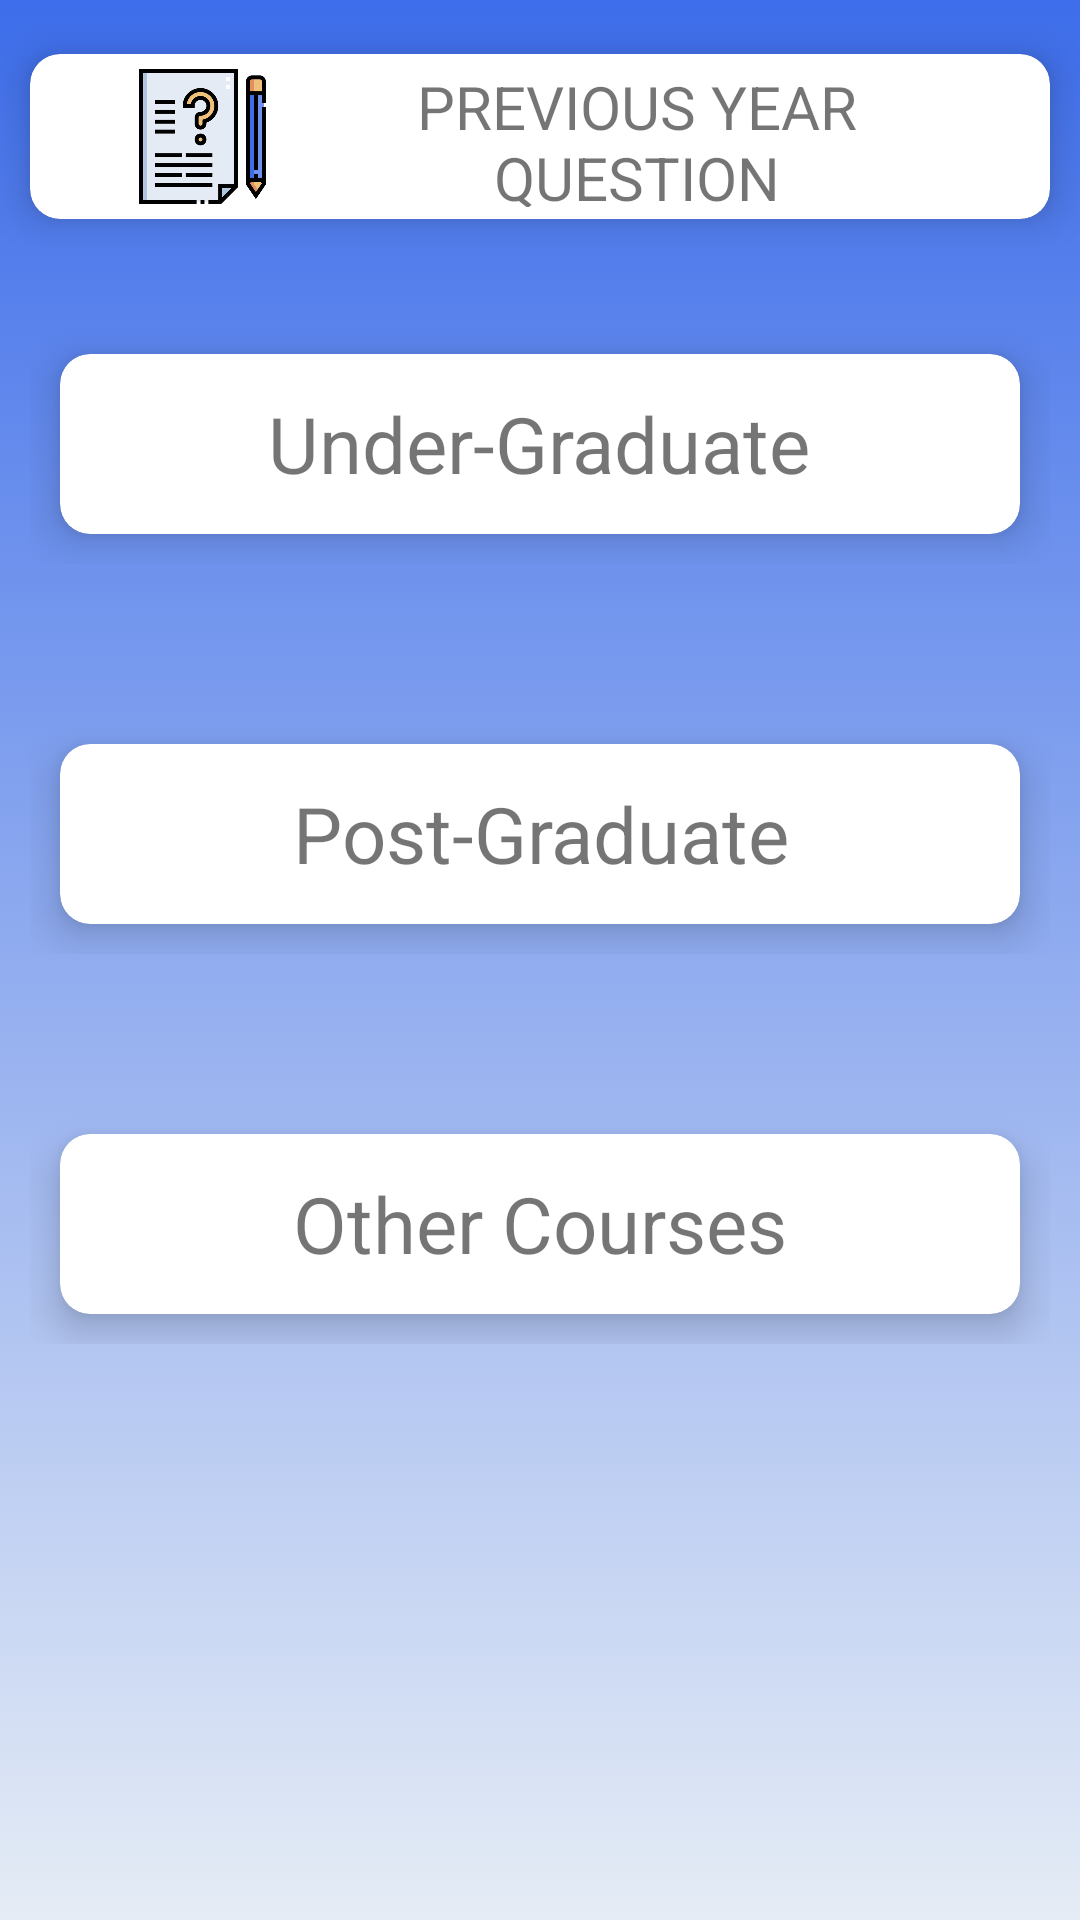

Named icons in this screenshot (1080×1920) and their bounding boxes, bbox=[x1, y1, x2, y2]:
pyq: bbox=[139, 69, 266, 204]
